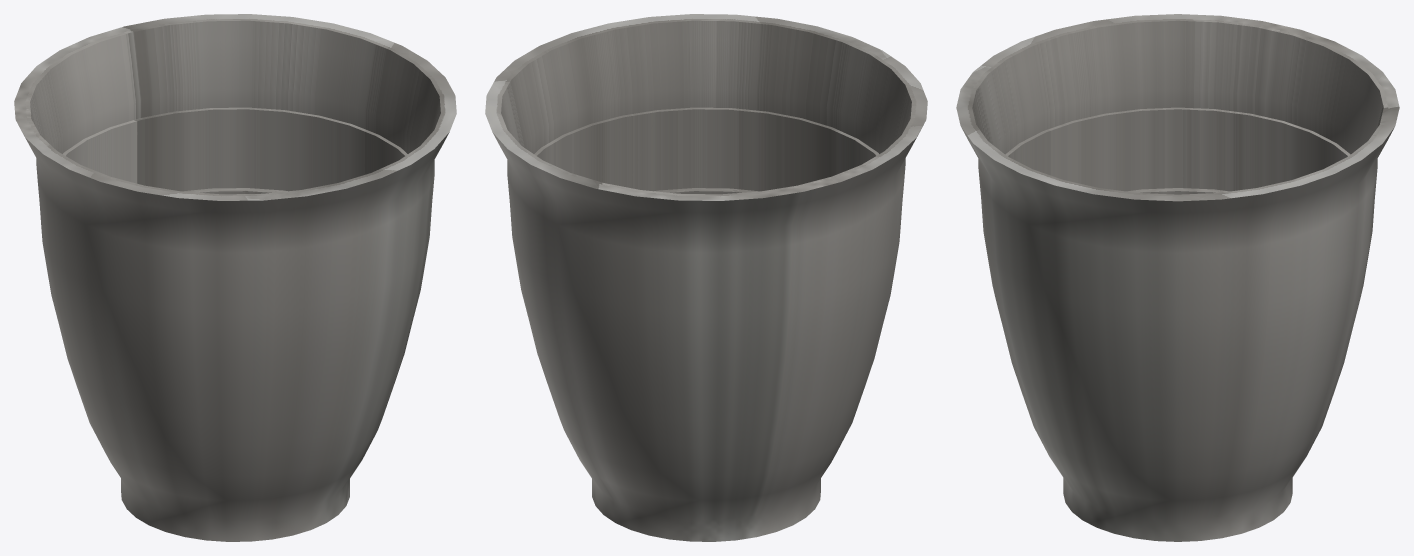
Rendered from bin.fbx.
3 renders of one model, left to right at view 1: azimuth 30°, elevation 25°; view 2: azimuth 150°, elevation 25°; view 3: azimuth 270°, elevation 25°, orthographic.
Parts seen in each view (by area): view 1: Cylinder; view 2: Cylinder; view 3: Cylinder.
Part boxes in pixels (box(x1,y1,x2,y2)): Cylinder: box(14, 14, 456, 541); Cylinder: box(485, 14, 927, 541); Cylinder: box(956, 14, 1399, 541).
Bounding box in the file's own units: 386 × 371 × 386.
Materials: 1 (1 with a texture image).
